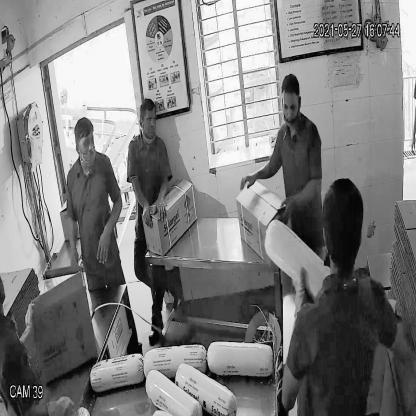no_goggles: (70, 133, 98, 157), (277, 96, 303, 120)
